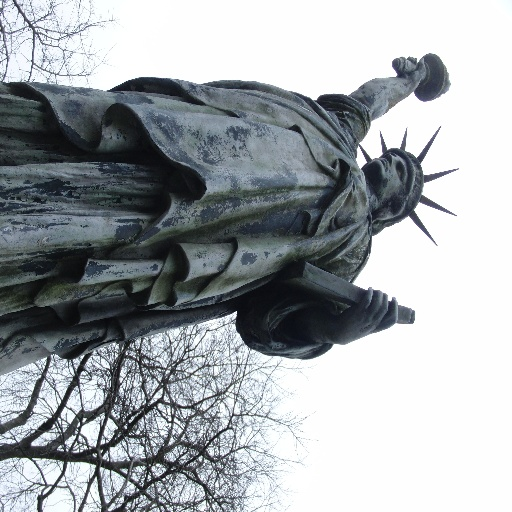hand: (353, 279, 407, 342), (394, 56, 427, 93)
